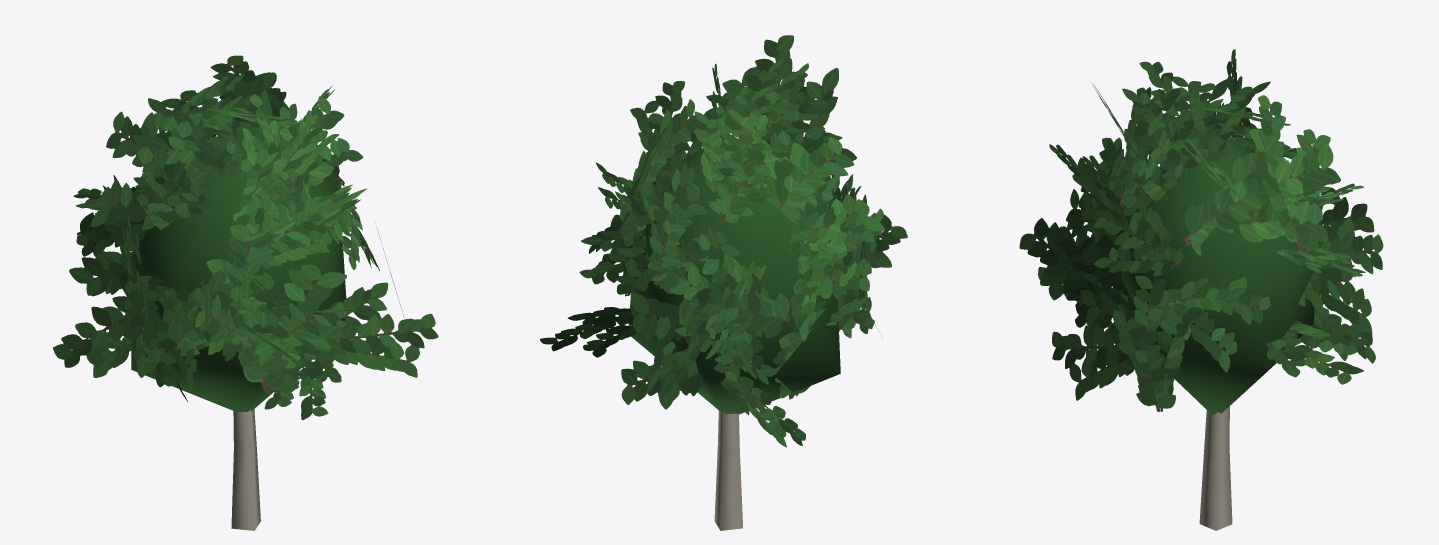
The model's file is MAGNOLIA_2.glb.
The picture shows the model from 3 angles, left to right: view 1: azimuth 30°, elevation 25°; view 2: azimuth 150°, elevation 25°; view 3: azimuth 270°, elevation 25°; orthographic projection. The views are drawn at different scales.
Visible parts, largest first — view 1: Arv_MAGNOLIA_lod2; view 2: Arv_MAGNOLIA_lod2; view 3: Arv_MAGNOLIA_lod2.
Part boxes in pixels (x1,y1,x2,y2): Arv_MAGNOLIA_lod2: [53, 55, 438, 530]; Arv_MAGNOLIA_lod2: [540, 35, 907, 530]; Arv_MAGNOLIA_lod2: [1019, 49, 1383, 530].
Bounding box in the file's own units: 9.26 × 10.96 × 9.51.
3 materials, 1 textured.
